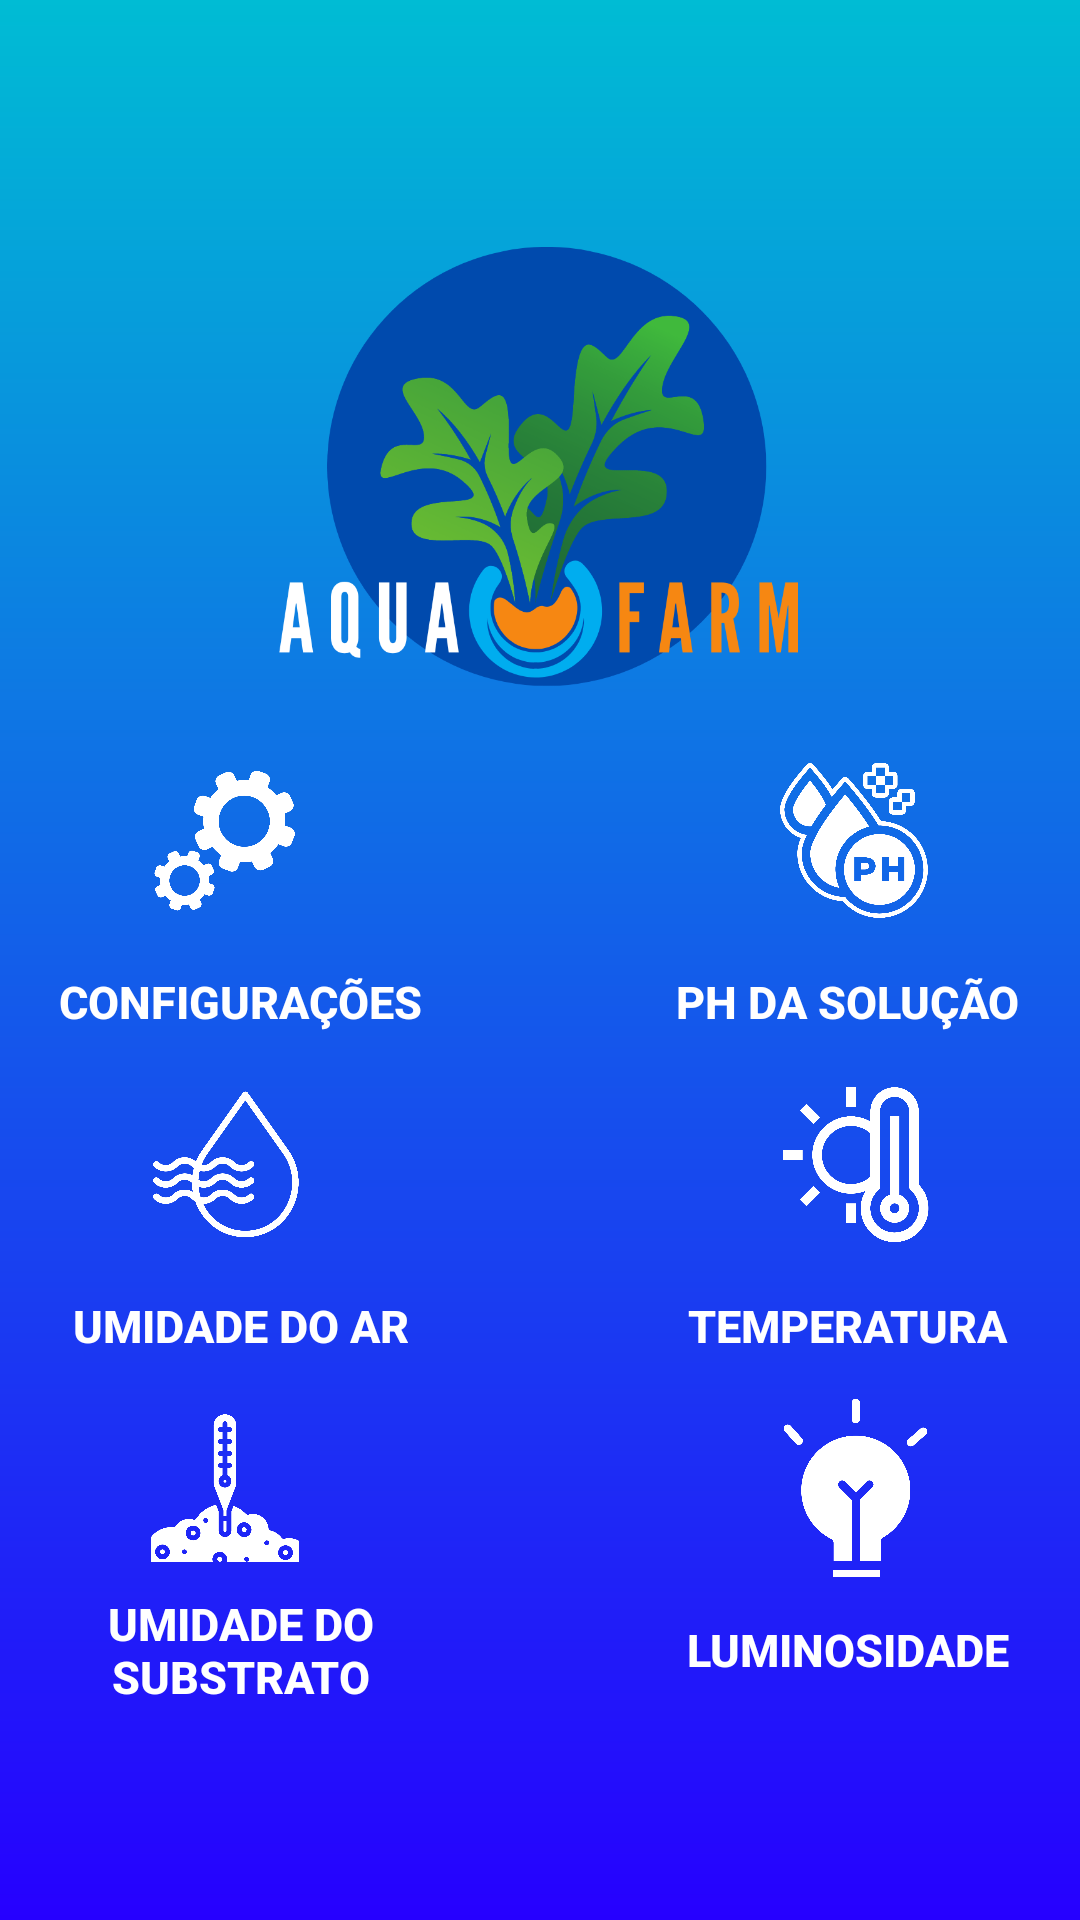

Named icons in this screenshot (1080x1920) and their bounding boxes, box(x1, y1, x2, y2):
configuracao: box(154, 771, 295, 911)
umidadear: box(153, 1091, 299, 1237)
